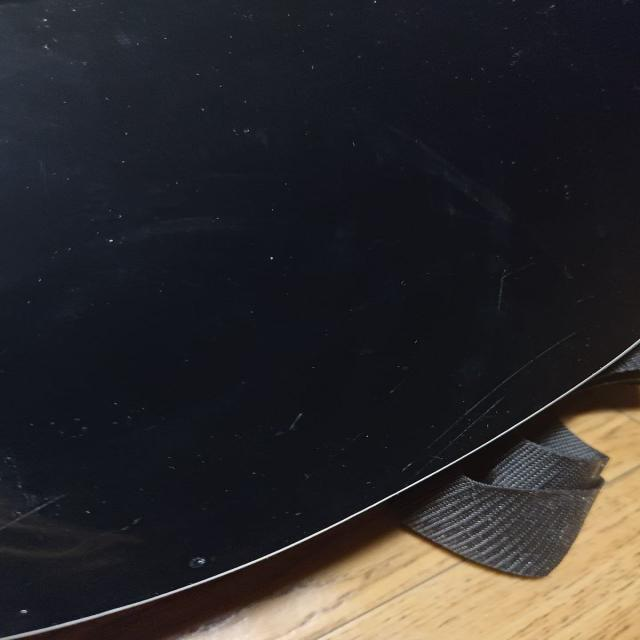scratch: (367, 328, 597, 472), (461, 248, 532, 317), (0, 480, 92, 530), (110, 506, 164, 536), (280, 405, 321, 435)
